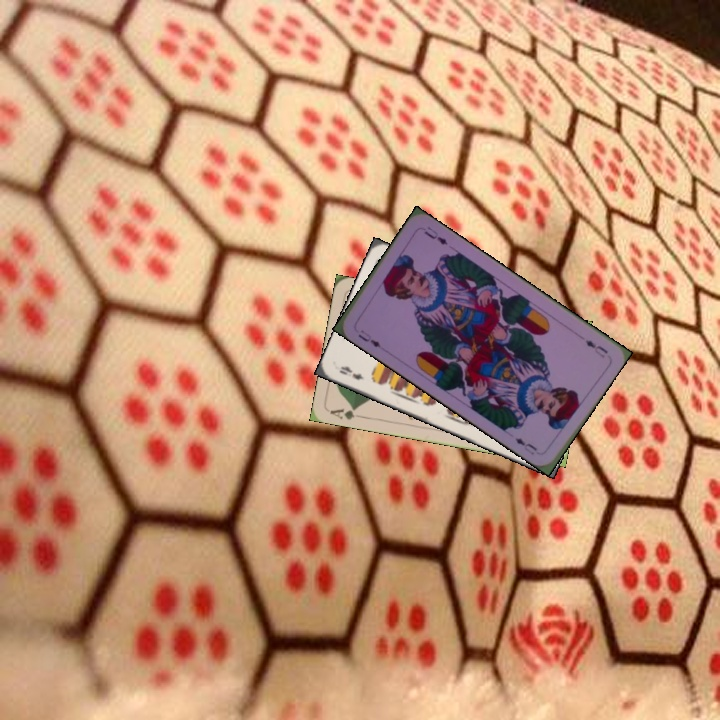E9: (335, 362, 366, 382)
EU: (354, 326, 384, 350), (581, 336, 611, 360)
GA: (326, 403, 366, 422)
